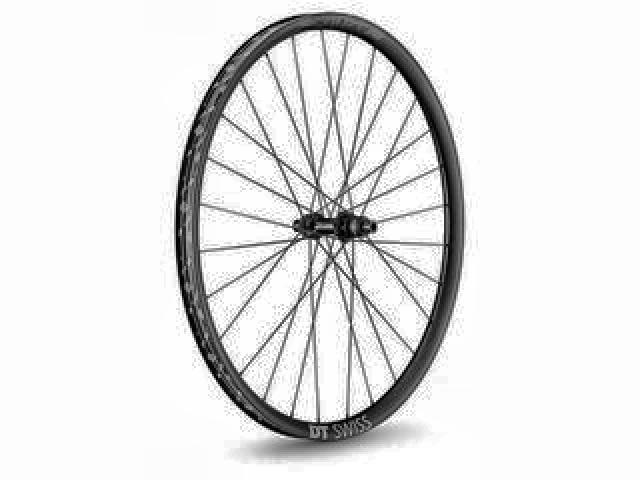wheel: (174, 6, 466, 448)
